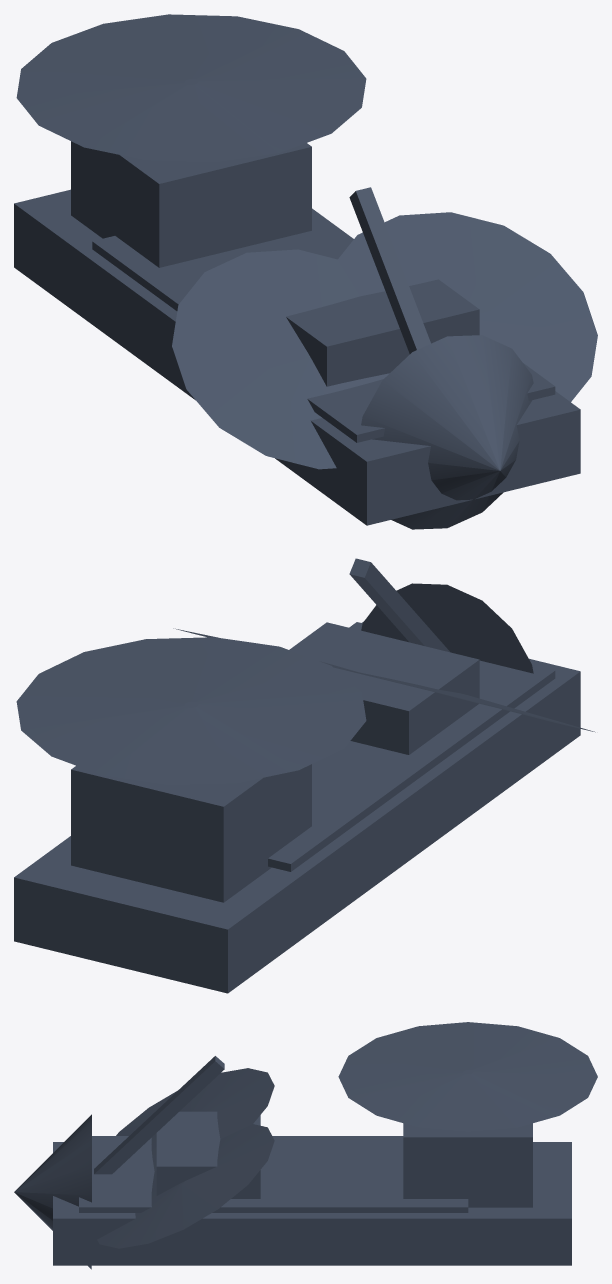
Rendered from trawler.glb.
3 renders of one model, top to bottom at view 1: azimuth 30°, elevation 25°; view 2: azimuth 150°, elevation 25°; view 3: azimuth 270°, elevation 25°, orthographic. The views are drawn at different scales.
Parts seen in each view (by area): view 1: masthead, hull, netPipe1, wheelhouse, netPipe2, bow, fishHold, deck, netGantry; view 2: hull, masthead, wheelhouse, fishHold, deck, bow, netGantry, netPipe1; view 3: hull, masthead, deck, wheelhouse, netPipe2, fishHold, netPipe1, bow, netGantry.
Part boxes in pixels (<box>): masthead: <box>16,14,366,162</box>; hull: <box>14,189,580,525</box>; netPipe1: <box>172,249,389,469</box>; wheelhouse: <box>71,141,311,267</box>; netPipe2: <box>338,212,597,401</box>; bow: <box>361,335,533,529</box>; fishHold: <box>286,279,479,386</box>; deck: <box>92,208,555,442</box>; netGantry: <box>349,187,430,353</box>; hull: <box>14,621,580,993</box>; masthead: <box>16,637,366,784</box>; wheelhouse: <box>71,764,311,902</box>; fishHold: <box>289,622,479,754</box>; deck: <box>268,622,555,871</box>; bow: <box>361,583,533,673</box>; netGantry: <box>349,558,449,652</box>; netPipe1: <box>337,668,595,732</box>; hull: <box>53,1142,571,1265</box>; masthead: <box>338,1022,597,1131</box>; deck: <box>79,1136,468,1212</box>; wheelhouse: <box>403,1123,532,1207</box>; netPipe2: <box>97,1124,274,1248</box>; fishHold: <box>156,1111,260,1198</box>; netPipe1: <box>116,1068,274,1170</box>; bow: <box>14,1114,91,1269</box>; netGantry: <box>94,1056,224,1174</box>.
Bounding box in the file's own units: 26 × 17.37 × 45.
